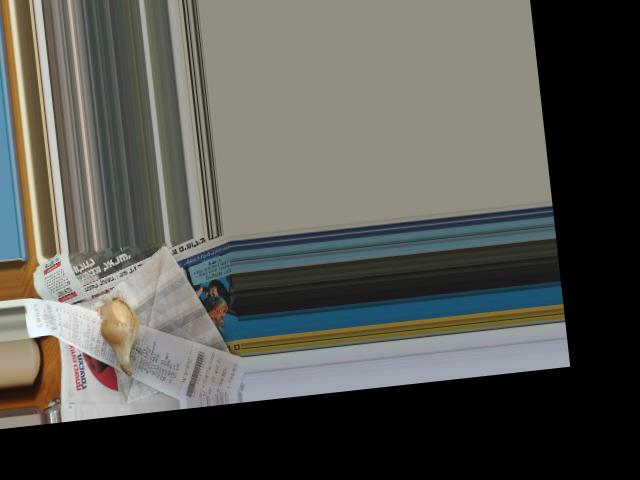onion: (100, 300, 143, 372)
